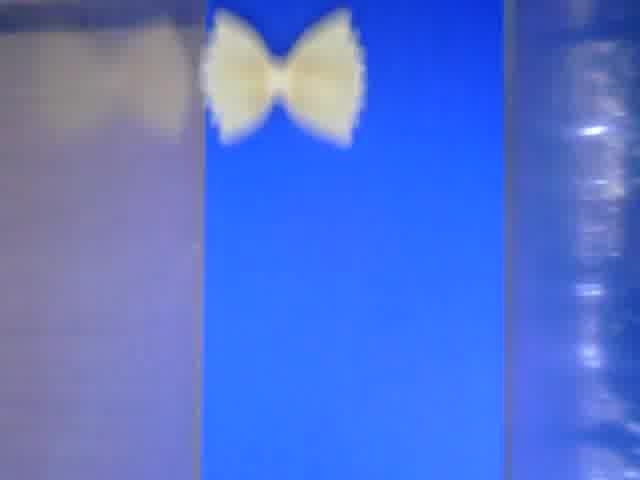farfalle: (203, 7, 365, 149)
